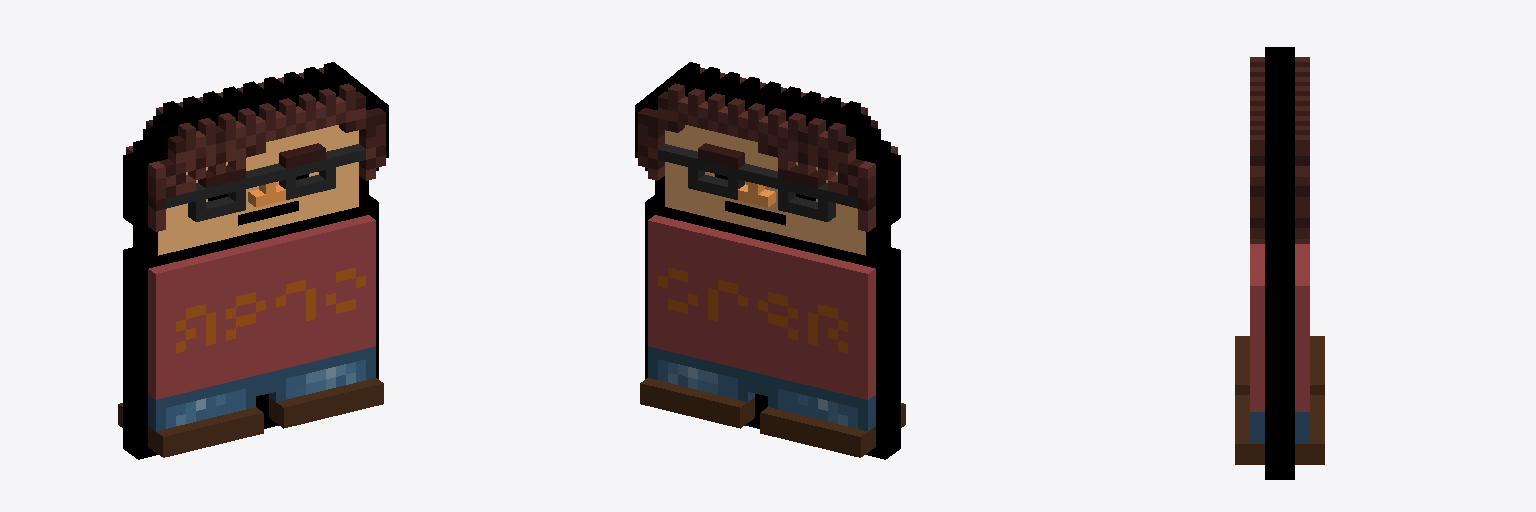
3 renders of one model, left to right at view 1: azimuth 30°, elevation 25°; view 2: azimuth 150°, elevation 25°; view 3: azimuth 270°, elevation 25°, orthographic.
Bounding box in the file's own units: 25 × 32 × 7.8.
Materials: 1 (1 with a texture image).